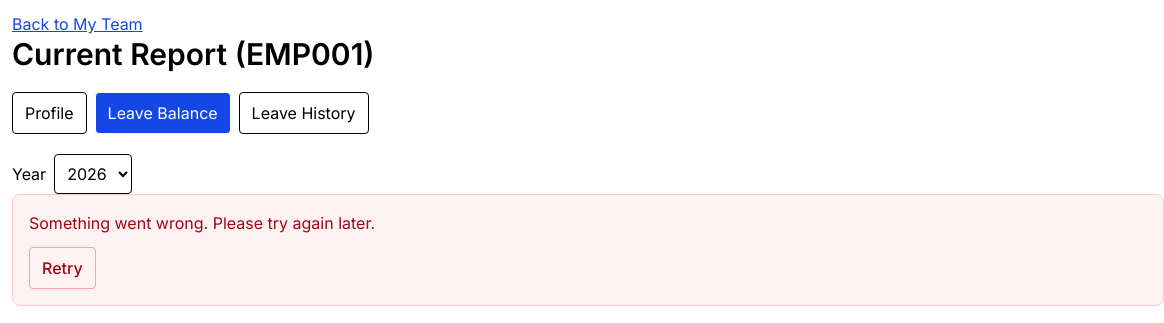
Test: Phase 8 team and pending review › retries balance errors for authorized team member
Expected: the message does not show "unsafe", [12,194,1163,306]
Click the button "Retry" at (62, 268), box [29,247,96,289]
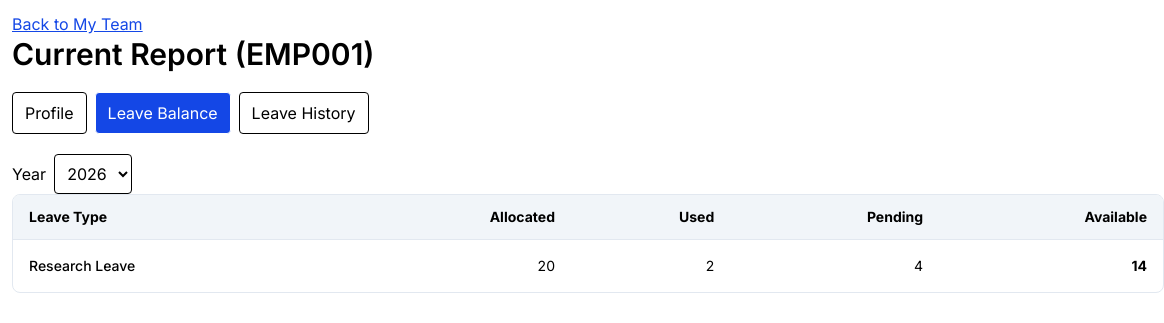
Expected: the table named "Leave balances" is shown, [13,195,1163,292]
